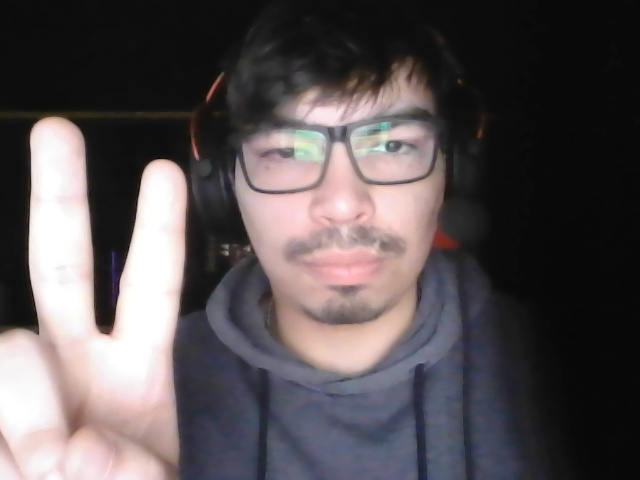two: (1, 107, 207, 480)
